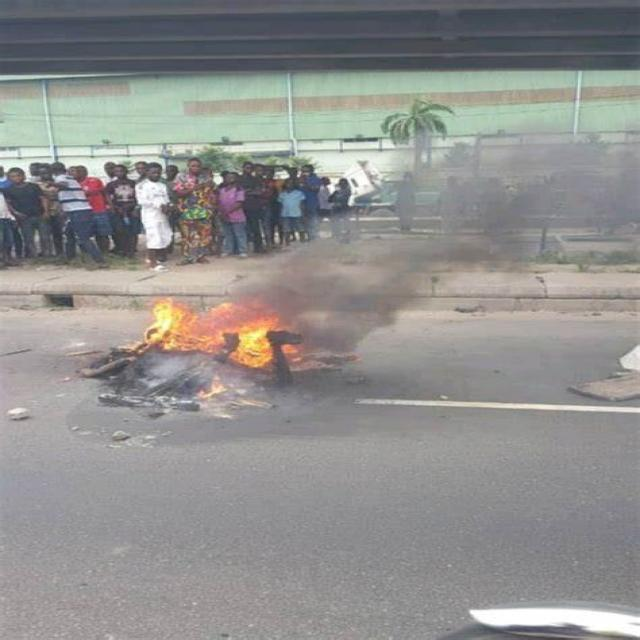Fire: (148, 301, 276, 364)
Smoke: (417, 138, 628, 247)
